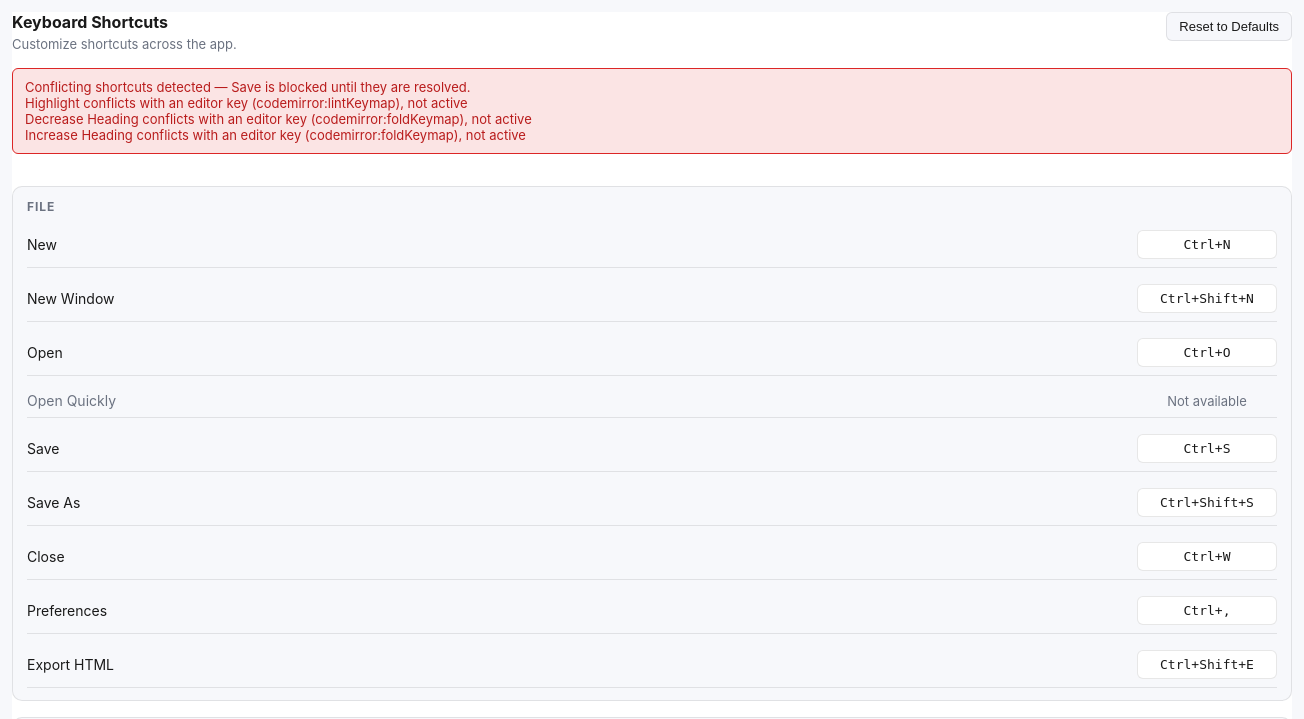
Test case: D190-WI-7 the shortcut recorder owns the keys it is recording › g1 recording Ctrl+Shift+N stores it and does not open a window
expect the text "New Window" is shown: met, box left=27, top=290, right=114, bottom=307
Click the button "Ctrl+Shift+N" at [1207, 298], box left=1137, top=284, right=1277, bottom=313
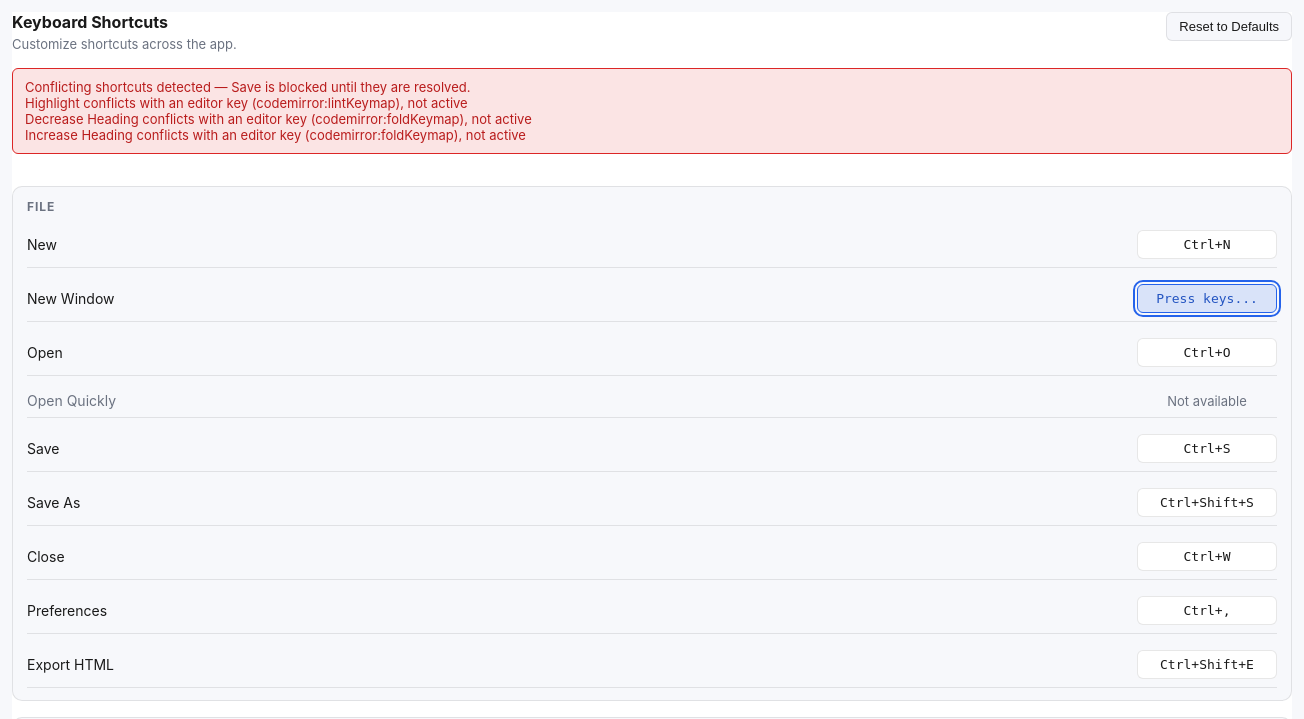
expect the button "Press keys..." is shown: met, box left=1137, top=284, right=1277, bottom=313
Type keys "{Control>}{Shift>}N{/Shift}{/Control}"
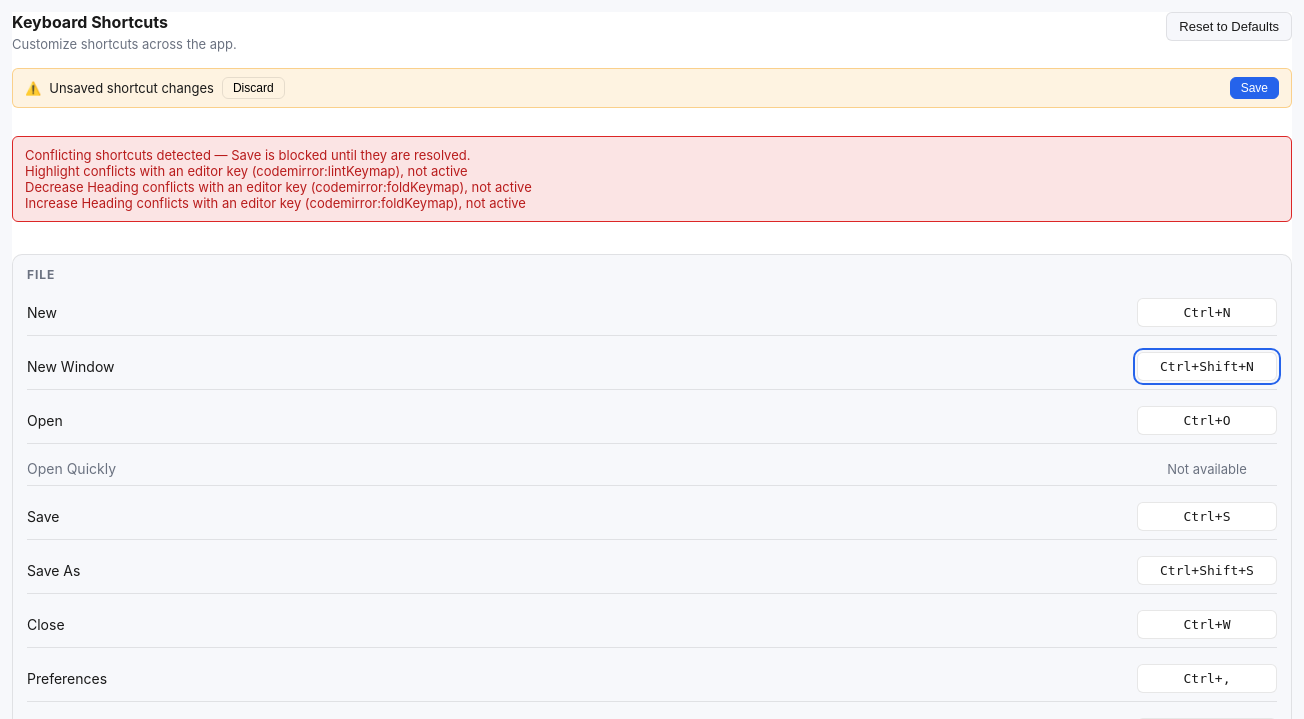
expect the button "Ctrl+Shift+N" is shown: met, box left=1137, top=352, right=1277, bottom=381
